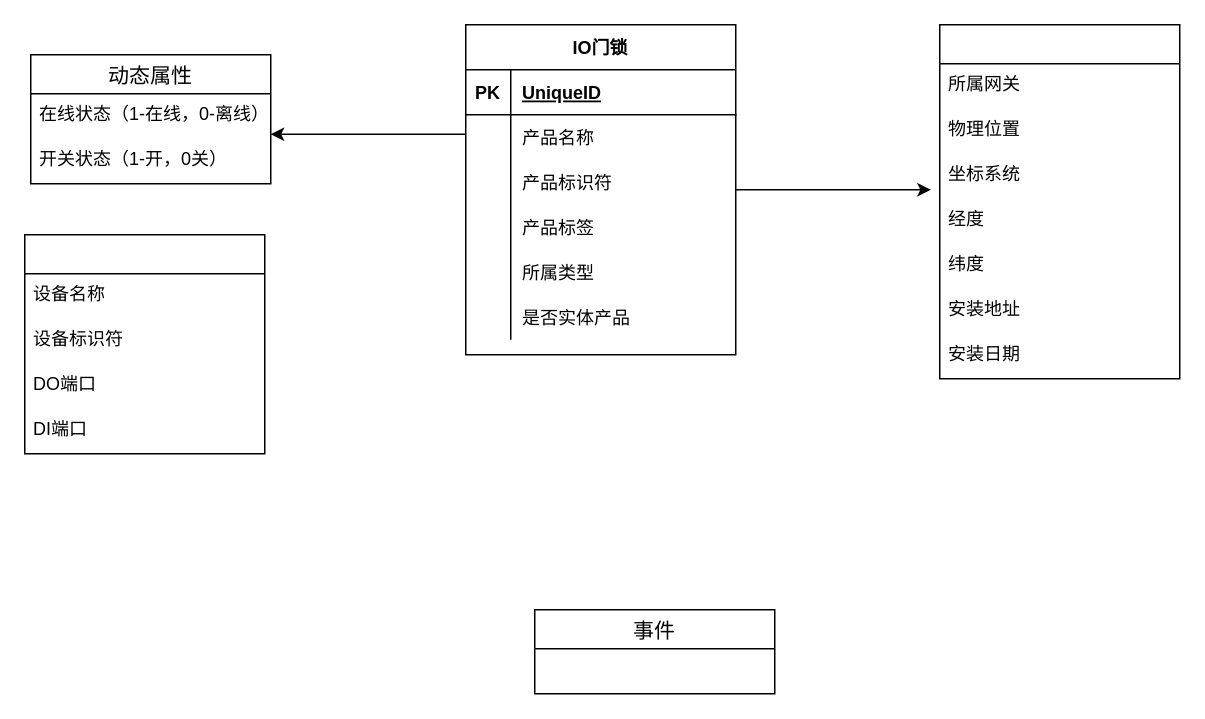
Some shapes in this 1205 by 719 pixel diagram are drawn without their labels. The box of each missing label's shape, as (x1, y1, x2, y2) in pixels:
设备属性: (938, 23, 1180, 379)
静态属性: (23, 233, 265, 454)
